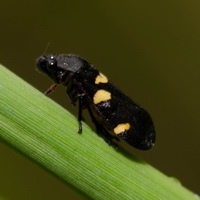insect: (37, 54, 155, 149)
